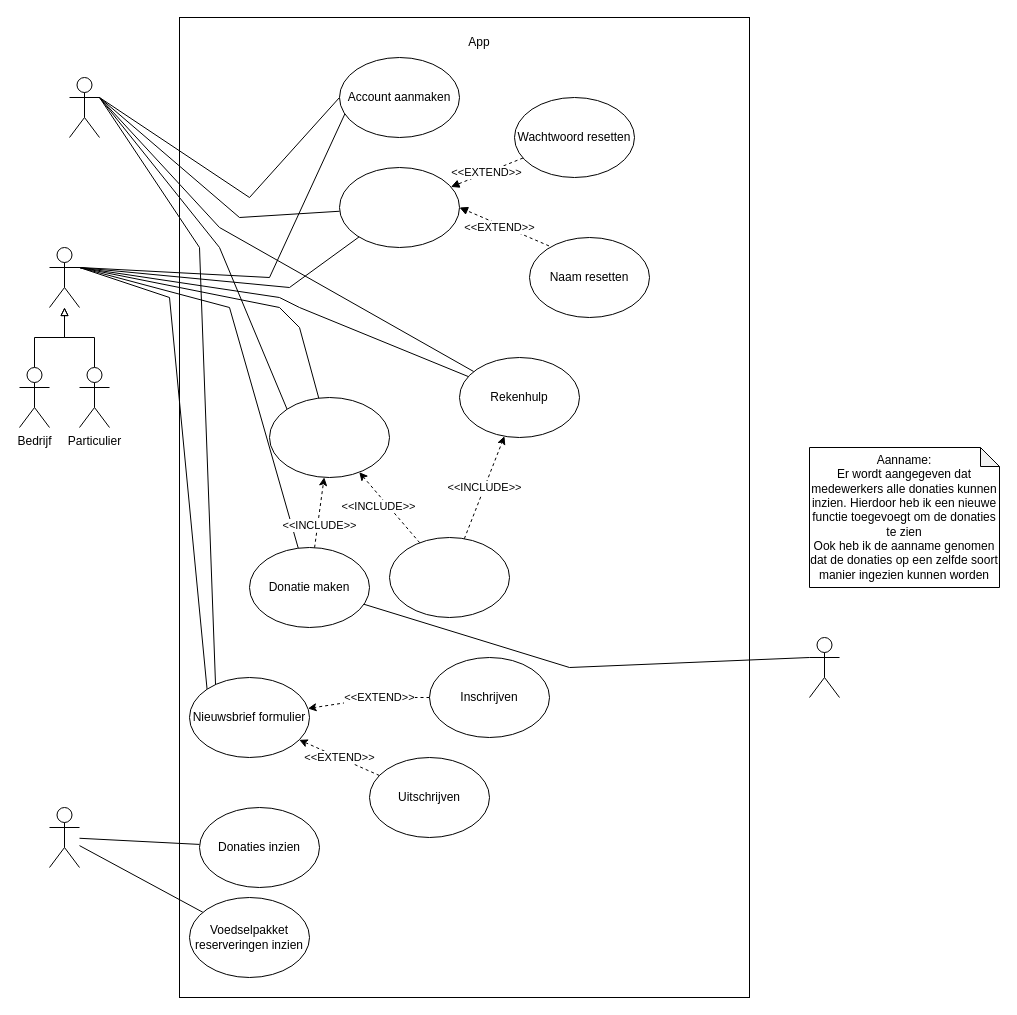
The diagram is 1017 pixels wide and 1015 high, and some of its shapes have lost their labels. The centre of each missing label's shape, as x and y in pixels:
Donateur: point 64,277
iDeal: point 824,667
Inloggen: point 399,207
Klant: point 84,107
Medewerker: point 64,837
Voedselpakket reserveren: point 449,577
Zoek locatie voedselbank: point 329,437
